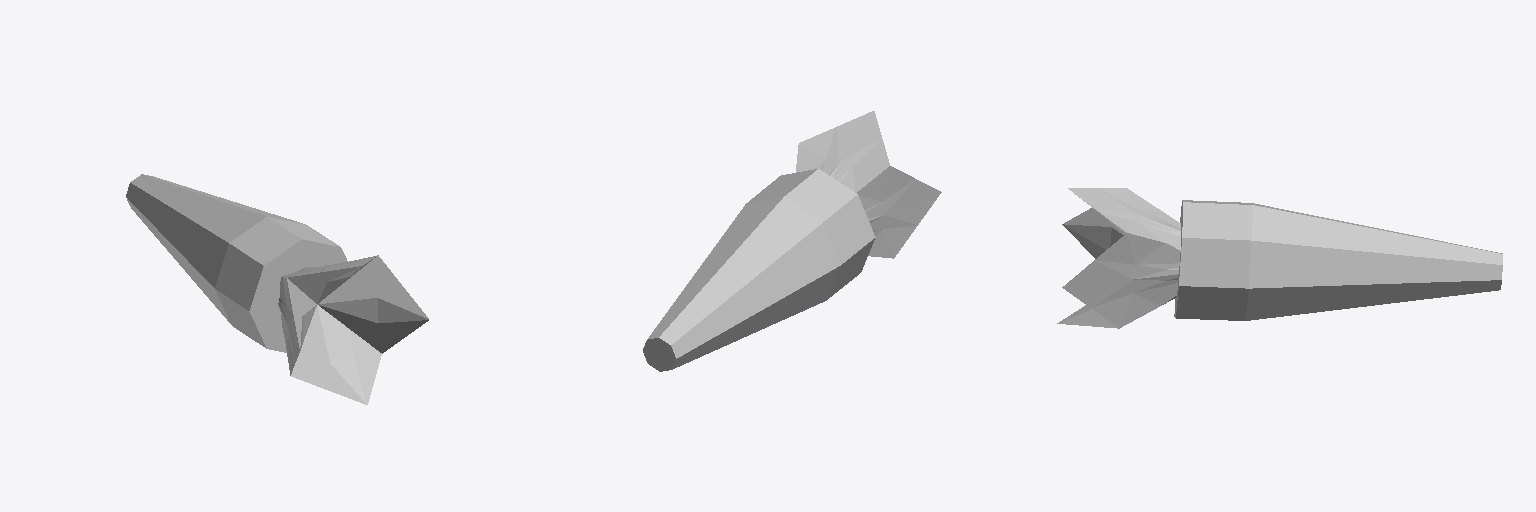
File: Carrot.obj
3 views of the same model, side by side, from view 1: azimuth 30°, elevation 25°; view 2: azimuth 150°, elevation 25°; view 3: azimuth 270°, elevation 25° (orthographic).
Visible parts, largest first — view 1: carrot group1; view 2: carrot group1; view 3: carrot group1.
Part boxes in pixels (x1,y1,x2,y2): carrot group1: (126, 174, 428, 404); carrot group1: (643, 111, 941, 371); carrot group1: (1057, 188, 1502, 328).
Size of the model in its own units: 12.2 by 12.18 by 36.38.